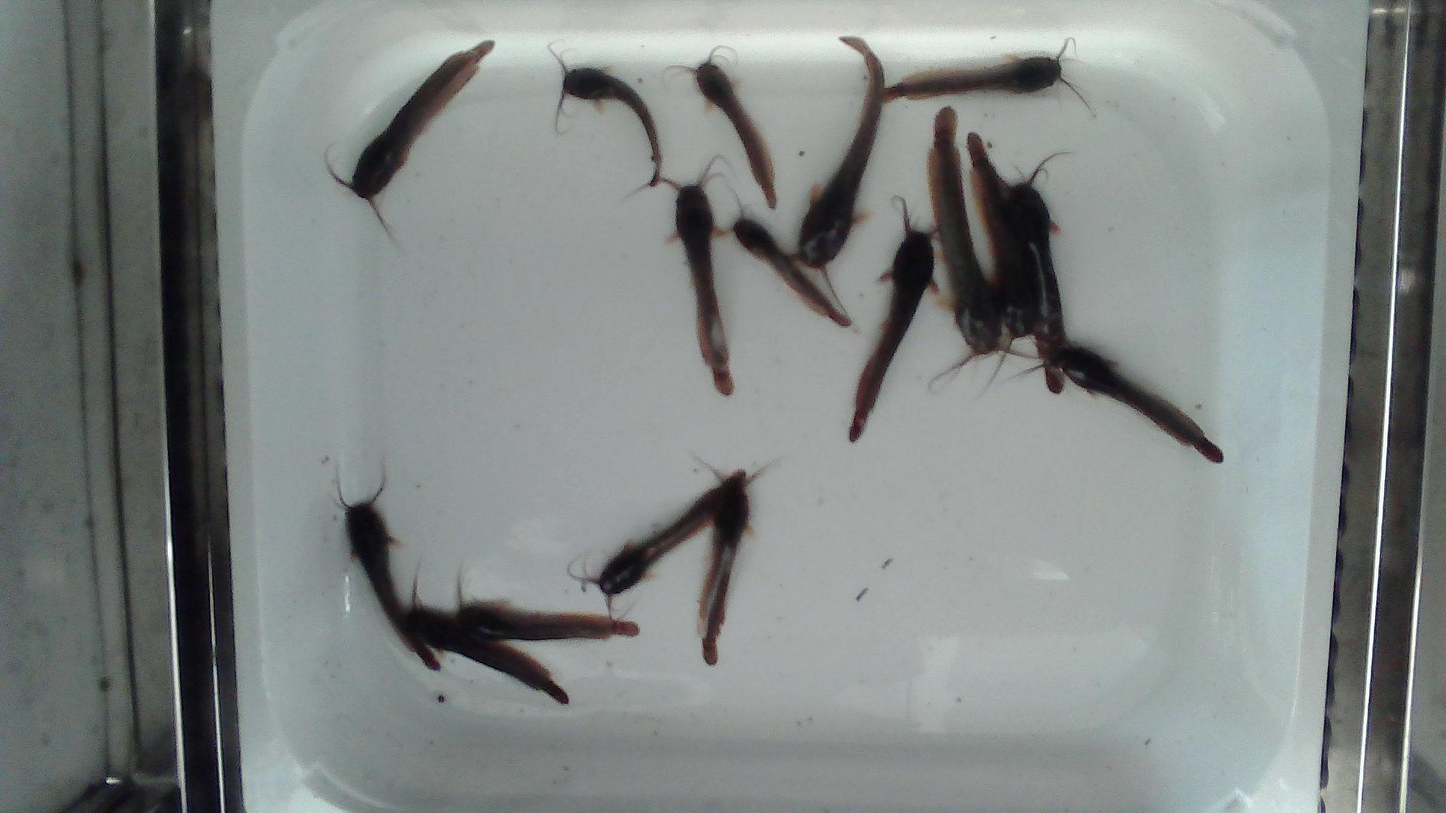lele: (325, 41, 494, 215), (405, 579, 568, 704), (850, 206, 934, 440), (1054, 345, 1222, 461), (576, 487, 720, 617), (990, 154, 1066, 394), (929, 108, 1001, 354), (798, 53, 881, 266), (345, 496, 438, 668), (968, 133, 1040, 336), (733, 215, 850, 326), (676, 184, 733, 394), (560, 68, 660, 185), (696, 62, 776, 207), (700, 470, 750, 665), (883, 57, 1061, 101), (454, 605, 638, 641)
